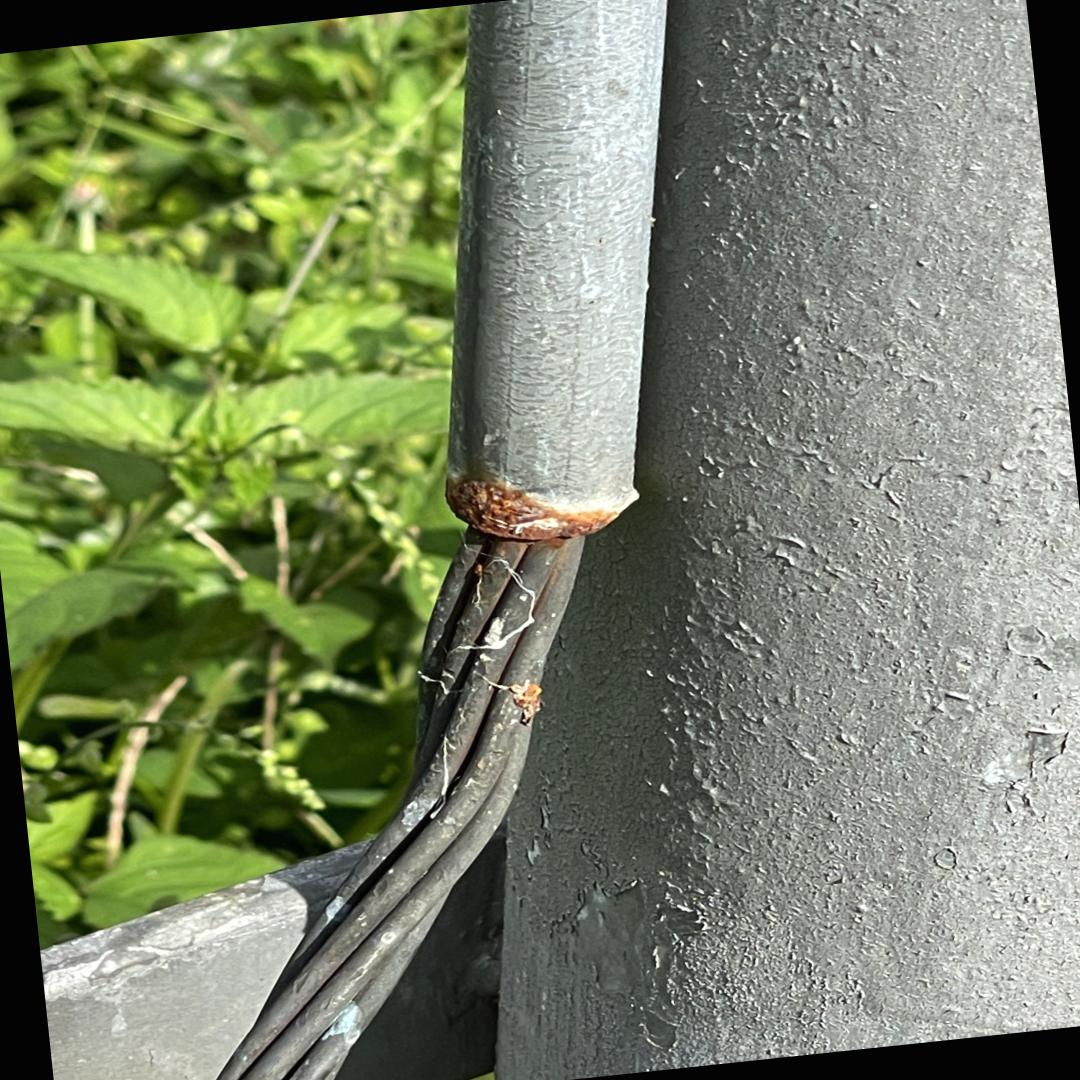Metal: (41, 0, 1080, 1080)
Metal corroido: (447, 475, 621, 543)
